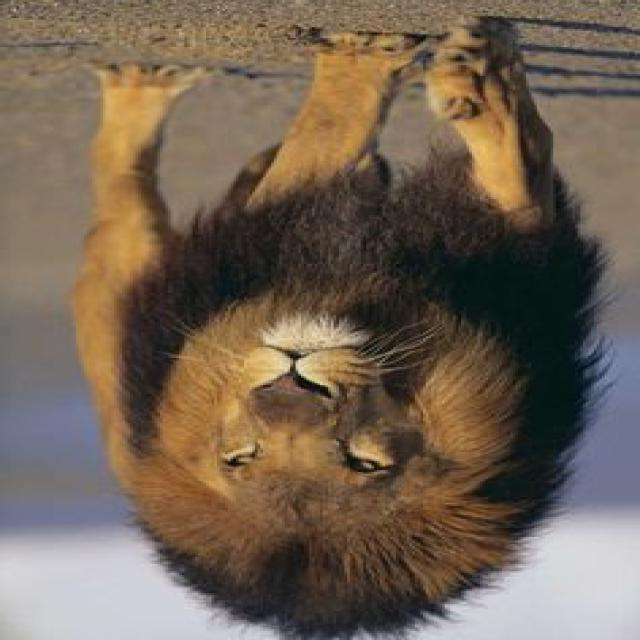lions: (30, 17, 612, 640)
